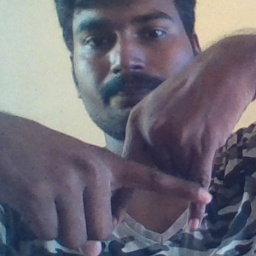H: (92, 103, 222, 232)
